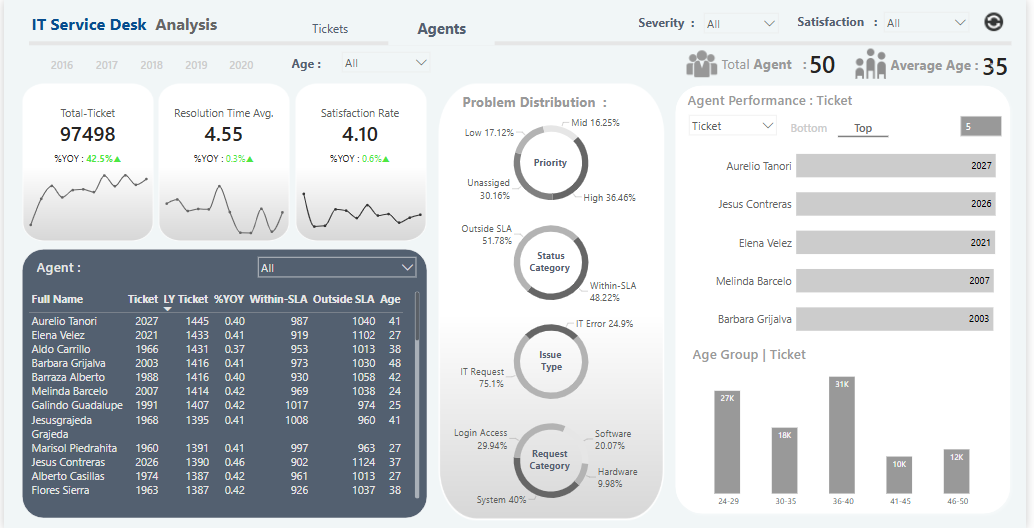

This screenshot's page, from the dashboard's own definition file:
{"tool":"powerbi","page":{"name":"Agents","canvas":[2029,1050],"ordinal":1},"visuals":[{"type":"image","box":[857.8,161,458.3,877],"z":0},{"type":"shape","box":[35.5,494.8,804.3,534.2],"z":1000},{"type":"shape","box":[1324.7,161.6,682.1,867.4],"z":2000},{"type":"image","box":[31,161.6,270,323],"z":3000},{"type":"image","box":[302,161.6,270,323],"z":4000},{"type":"image","box":[573,161,270,323],"z":5000},{"type":"cardVisual","fields":{"Data":["_Measure.Average Resolution Time"]},"box":[311.9,192.7,249.4,150],"z":6000},{"type":"cardVisual","fields":{"Data":["_Measure.Satisfication Rate"]},"box":[589.4,192.7,234.6,138],"z":7000},{"type":"advancedSlicerVisual","fields":{"Values":["Calendar.Year"]},"box":[69.8,91.1,449.8,72.2],"z":8000},{"type":"cardVisual","fields":{"Data":["_Measure.Total Ticket"]},"box":[50,192.7,233.7,148.9],"z":9000},{"type":"lineChart","fields":{"Category":["Calendar.MonthName"],"Y":["_Measure.Total Ticket"]},"box":[39.4,331.2,256.3,140],"z":10000},{"type":"lineChart","fields":{"Category":["Calendar.MonthName"],"Y":["_Measure.Resolution Time Average"]},"box":[310.5,331.2,256.3,139.5],"z":11000},{"type":"donutChart","fields":{"Category":["Tickets.Priority","Tickets.Issue Type","Tickets.Request Category"],"Y":["_Measure.Total-Ticket"]},"box":[871.3,222.8,429,201],"z":12000},{"type":"lineChart","fields":{"Category":["Calendar.MonthName"],"Y":["_Measure.Satisfication Rate"]},"box":[581.5,331.2,258.2,141.9],"z":13000},{"type":"slicer","fields":{"Values":["Rankoff.Rankoff"]},"box":[1886.5,219.6,99.4,77.3],"z":14000},{"type":"advancedSlicerVisual","fields":{"Values":["TopBottom.Value"]},"box":[1542.9,219.9,218.7,57.4],"z":15000},{"type":"slicer","fields":{"Values":["Breakdown.Breakdown"]},"box":[1349.3,219.3,194.4,64.1],"z":16000},{"type":"clusteredBarChart","fields":{"Category":["IT Agents.Full Name"],"Y":["_Measure.Ranking"]},"box":[1396.4,262.3,611,433],"z":17000},{"type":"cardVisual","fields":{"Data":["_Measure.Heading"]},"box":[1340.5,155.7,433.7,71],"z":18000},{"type":"donutChart","fields":{"Y":["_Measure.Within-SLA","_Measure.Outside SLA"]},"box":[871.3,419.9,429,201],"z":19000},{"type":"tableEx","fields":{"Values":["IT Agents.Full Name","_Measure.Total-Ticket","_Measure.Ticket Last Year","_Measure.Ticket Growth","_Measure.Within-SLA","_Measure.Outside SLA","IT Agents.Age"]},"box":[43.4,573.7,786,421],"z":20000},{"type":"slicer","fields":{"Values":["IT Agents.Full Name"]},"box":[493.3,500.1,334.4,62.5],"z":21000},{"type":"cardVisual","fields":{"Data":["_Measure.Heading2"]},"box":[48.3,485.7,435.4,72.2],"z":22000},{"type":"donutChart","fields":{"Category":["Tickets.Issue Type"],"Y":["_Measure.Total-Ticket"]},"box":[871.3,617,429,201],"z":23000},{"type":"slicer","fields":{"Values":["IT Agents.Age Segement"]},"box":[661.6,93.5,194.8,62.5],"z":24000},{"type":"textbox","box":[565.8,102.5,96.6,45.3],"z":25000},{"type":"shape","box":[49,70.1,1950,33],"z":26000},{"type":"pageNavigator","box":[541.6,20.8,433.6,70.1],"z":27000},{"type":"slicer","fields":{"Values":["Tickets.Severity"]},"box":[1378.8,15.6,167.6,53.2],"z":28000},{"type":"slicer","fields":{"Values":["Tickets.Satisfaction Label"]},"box":[1737.3,13.9,189.2,52.6],"z":29000},{"type":"textbox","box":[1254.8,21,143.9,47.3],"z":30000},{"type":"textbox","box":[1569.3,19,181.4,47.3],"z":31000},{"type":"donutChart","fields":{"Category":["Tickets.Request Category"],"Y":["_Measure.Total-Ticket"]},"box":[871.3,814.2,429,201],"z":32000},{"type":"textbox","box":[904.8,179.4,323.3,49.3],"z":33000},{"type":"textbox","box":[1038.9,881.1,116.3,61.1],"z":34000},{"type":"textbox","box":[1039,488,120,62],"z":35000},{"type":"textbox","box":[1027.1,684,116.3,61.1],"z":36000},{"type":"textbox","box":[1027.1,303.6,116.3,61.1],"z":37000},{"type":"clusteredColumnChart","fields":{"Category":["IT Agents.Age group"],"Y":["_Measure.Ranking"]},"box":[1360,704,612,310],"z":38000},{"type":"cardVisual","fields":{"Data":["_Measure.Heading3"]},"box":[1350.1,659,435.5,72],"z":39000},{"type":"image","box":[1941.9,20.7,47,47],"z":40000},{"type":"textbox","box":[49,20,434.8,53.6],"z":41000},{"type":"image","box":[1349.1,88.3,71,71],"z":42000},{"type":"textbox","box":[1420.1,104,207,49.3],"z":43000},{"type":"card","fields":{"Values":["_Measure.Total-Agent"]},"box":[1574,88,99.7,76.5],"z":44000},{"type":"card","fields":{"Values":["_Measure.Average Age"]},"box":[1916.9,90.4,99.7,76.5],"z":45000},{"type":"textbox","box":[1754.6,104.3,231.8,74.2],"z":46000},{"type":"image","box":[1686,92,70,70],"z":47000}]}

Visuals, with their boxes in screenshot pixels (x1, y1, x2, y2), scaled from the page's 2029x1050 canvas onto the 1034x528 screenshot:
image: (437,81,671,522)
shape: (18,249,428,517)
shape: (675,81,1023,517)
image: (16,81,153,244)
image: (154,81,291,244)
image: (292,81,430,243)
cardVisual - _Measure.Average Resolution Time: (159,97,286,172)
cardVisual - _Measure.Satisfication Rate: (300,97,420,166)
advancedSlicerVisual - Calendar.Year: (36,46,265,82)
cardVisual - _Measure.Total Ticket: (25,97,145,172)
lineChart - Calendar.MonthName x _Measure.Total Ticket: (20,167,151,237)
lineChart - Calendar.MonthName x _Measure.Resolution Time Average: (158,167,289,237)
donutChart - Tickets.Priority x Tickets.Issue Type: (444,112,663,213)
lineChart - Calendar.MonthName x _Measure.Satisfication Rate: (296,167,428,238)
slicer - Rankoff.Rankoff: (961,110,1012,149)
advancedSlicerVisual - TopBottom.Value: (786,111,898,139)
slicer - Breakdown.Breakdown: (688,110,787,143)
clusteredBarChart - IT Agents.Full Name x _Measure.Ranking: (712,132,1023,350)
cardVisual - _Measure.Heading: (683,78,904,114)
donutChart - _Measure.Within-SLA x _Measure.Outside SLA: (444,211,663,312)
tableEx - IT Agents.Full Name x _Measure.Total-Ticket: (22,288,423,500)
slicer - IT Agents.Full Name: (251,251,422,283)
cardVisual - _Measure.Heading2: (25,244,246,281)
donutChart - Tickets.Issue Type x _Measure.Total-Ticket: (444,310,663,411)
slicer - IT Agents.Age Segement: (337,47,436,78)
textbox: (288,52,338,74)
shape: (25,35,1019,52)
pageNavigator: (276,10,497,46)
slicer - Tickets.Severity: (703,8,788,35)
slicer - Tickets.Satisfaction Label: (885,7,982,33)
textbox: (639,11,713,34)
textbox: (800,10,892,33)
donutChart - Tickets.Request Category x _Measure.Total-Ticket: (444,409,663,511)
textbox: (461,90,626,115)
textbox: (529,443,589,474)
textbox: (529,245,591,277)
textbox: (523,344,583,375)
textbox: (523,153,583,183)
clusteredColumnChart - IT Agents.Age group x _Measure.Ranking: (693,354,1005,510)
cardVisual - _Measure.Heading3: (688,331,910,368)
image: (990,10,1014,34)
textbox: (25,10,247,37)
image: (688,44,724,80)
textbox: (724,52,829,77)
card - _Measure.Total-Agent: (802,44,853,83)
card - _Measure.Average Age: (977,45,1028,84)
textbox: (894,52,1012,90)
image: (859,46,895,81)
